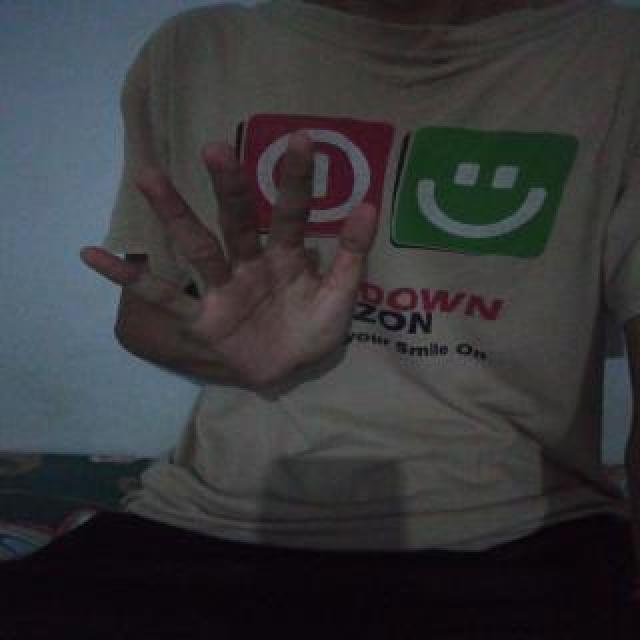hand: (72, 132, 380, 386)
